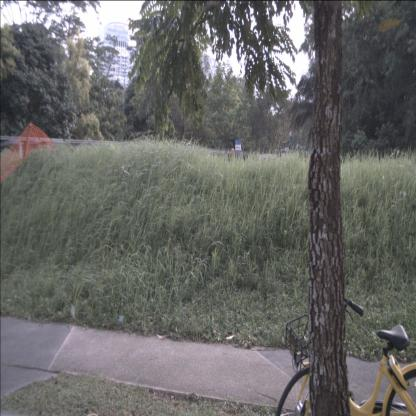vehicle-bicycle: (275, 295, 415, 415)
